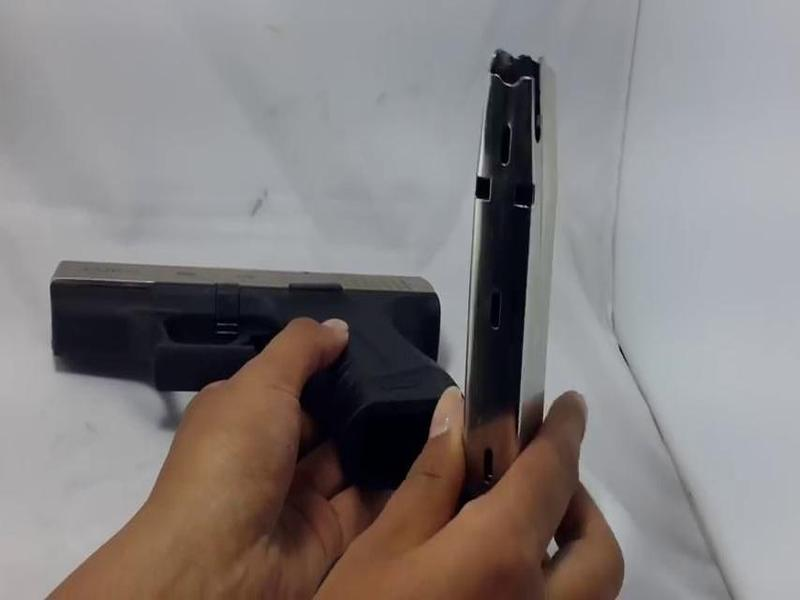Pistola: (36, 252, 485, 492)
